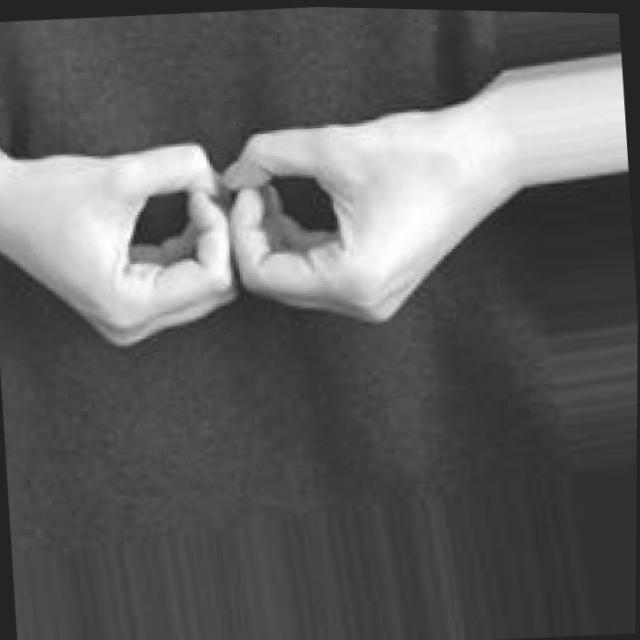B: (0, 94, 498, 367)
